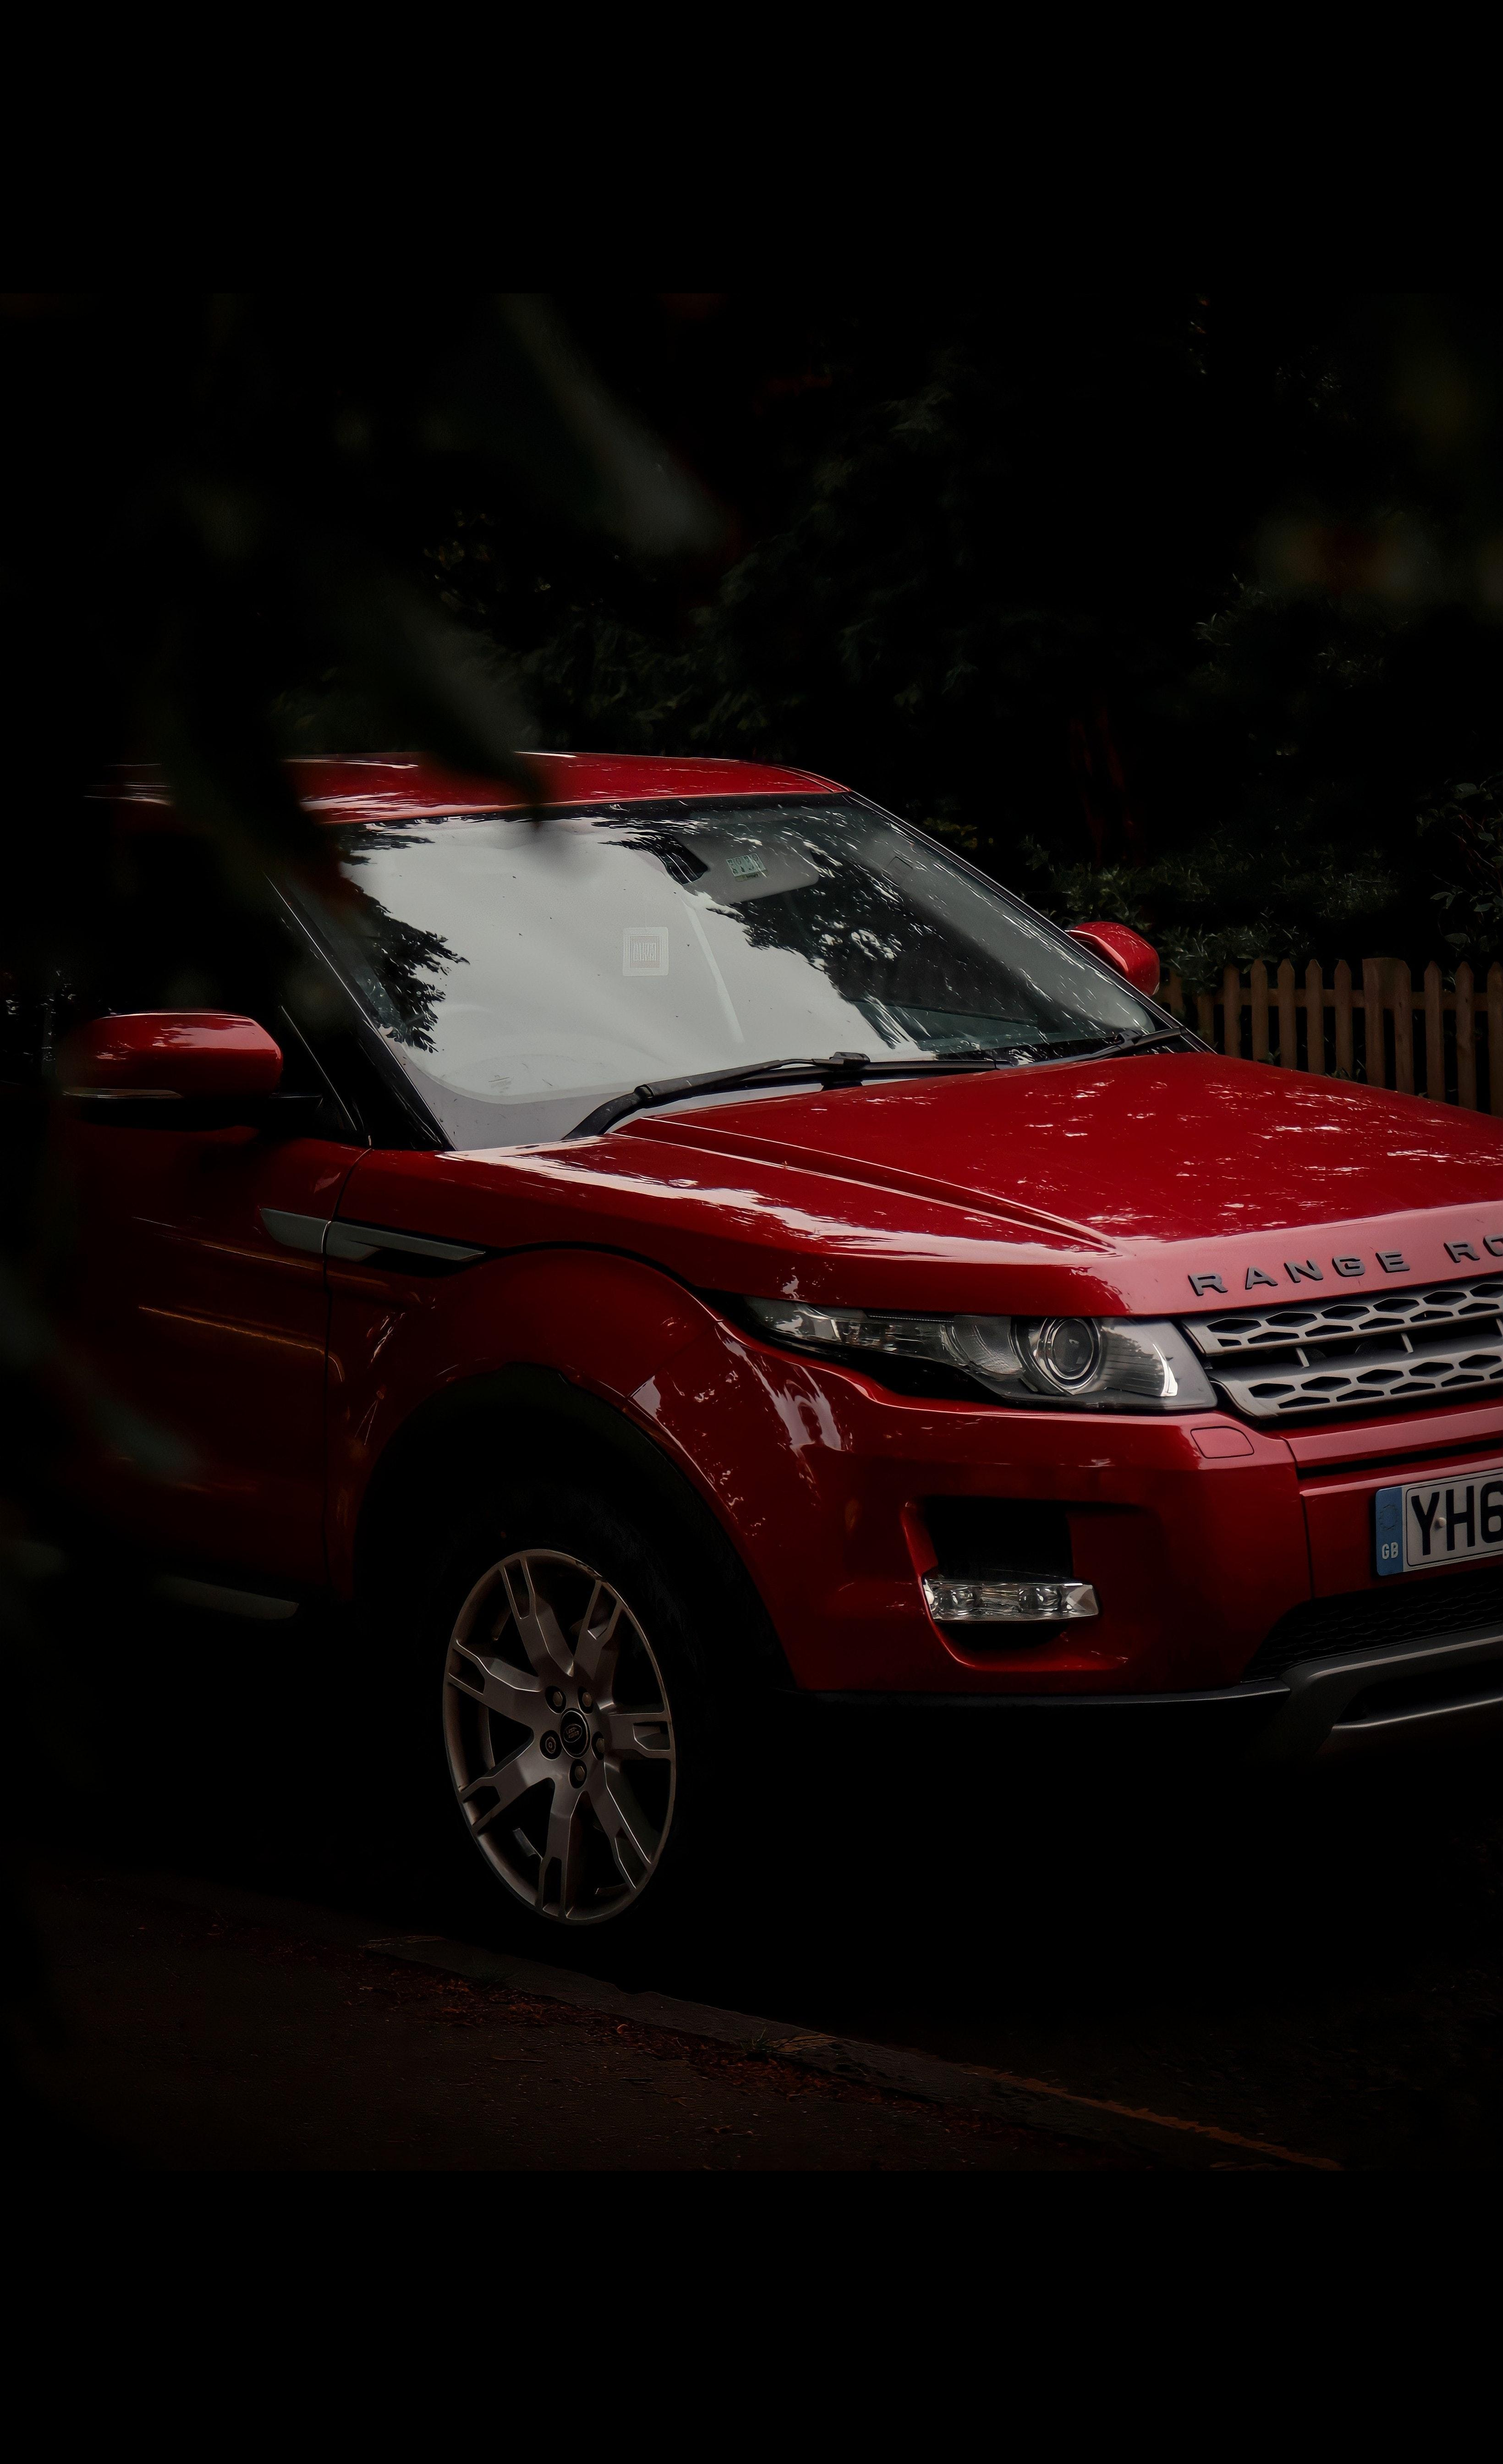range rover: (1158, 1220, 1503, 1320)
